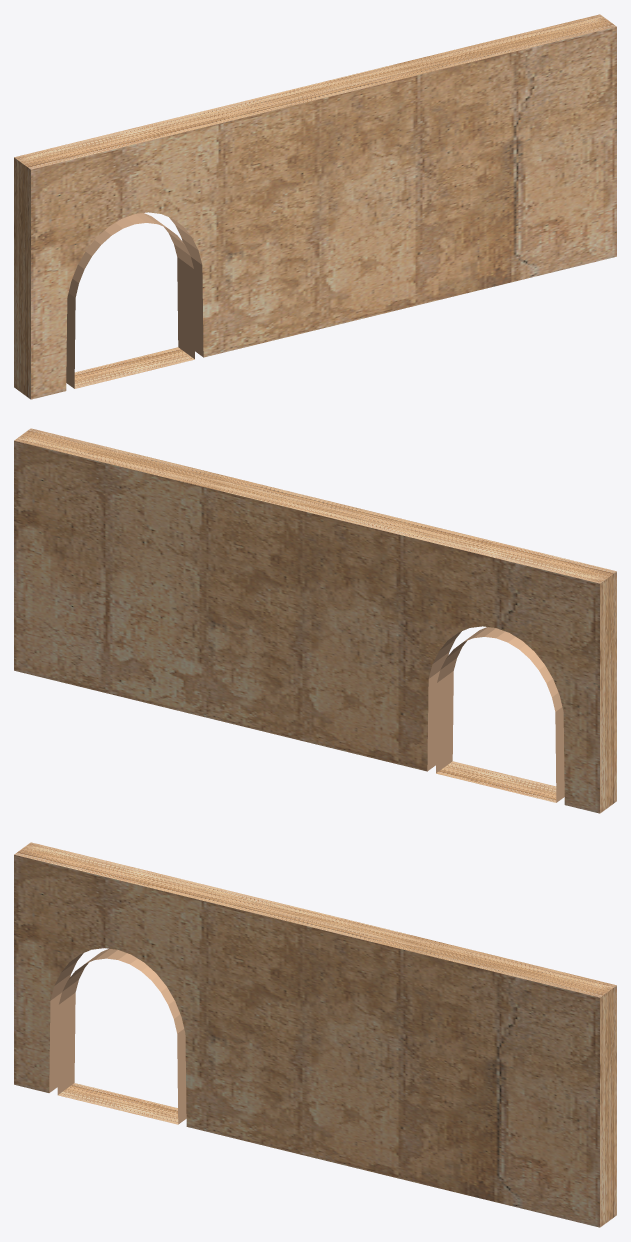
Rendered from parede_esquerda_baixo.obj.
The picture shows the model from 3 angles, top to bottom: view 1: azimuth 30°, elevation 25°; view 2: azimuth 150°, elevation 25°; view 3: azimuth 330°, elevation 25°; orthographic projection.
Visible parts, largest first — view 1: Box008; view 2: Box008; view 3: Box008.
Part boxes in pixels (x1,y1,x2,y2): Box008: (14,14,616,399); Box008: (14,428,616,813); Box008: (14,842,616,1227).
Size of the model in its own units: 200 by 75 by 10.
Materials: 1 (1 with a texture image).
